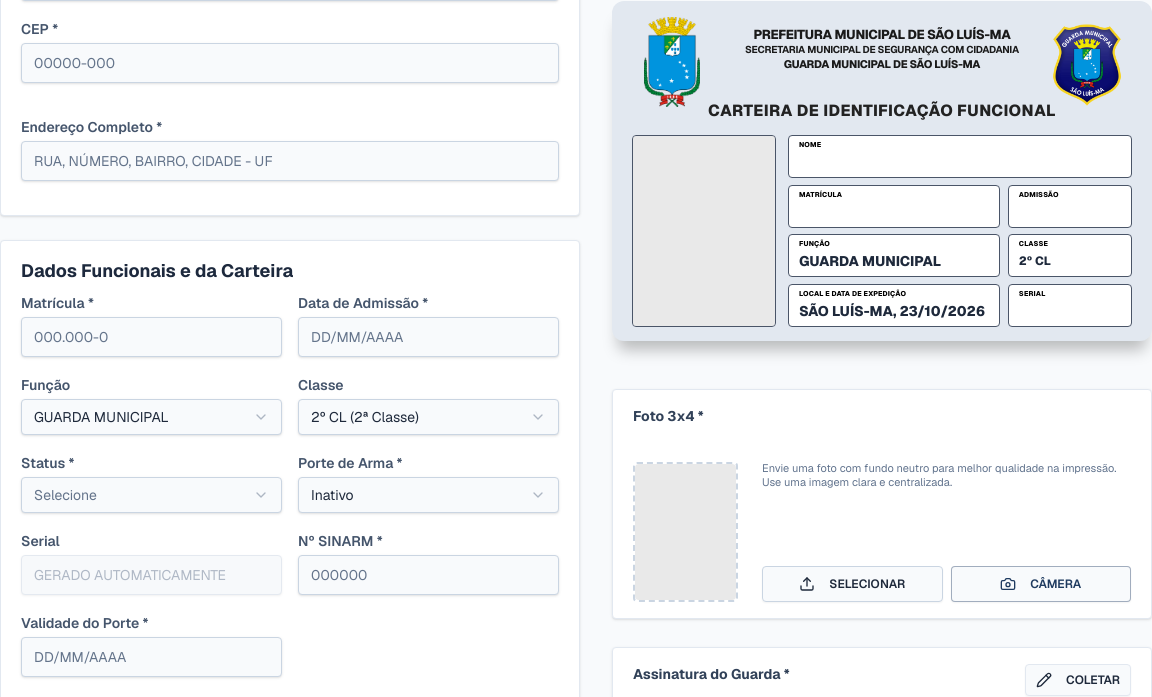
Scenario: GuardForm Field Limits and Masks › Registration Number mask should work correctly
The width and height of the screenshot is (1152, 697).
(page scrolled)
Type "1234567" into the field labelled "Matrícula *" at (152, 337), box [21,317,282,357]
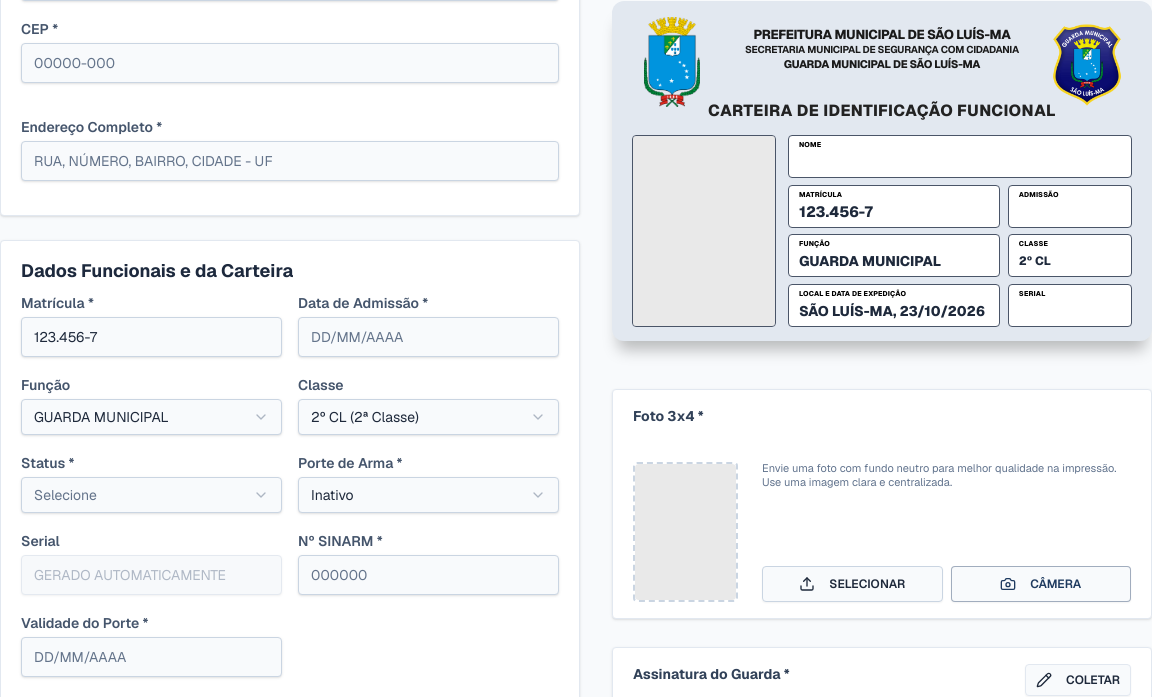
Expected: the field labelled "Matrícula *" holds "123.456-7", [21,317,282,357]
